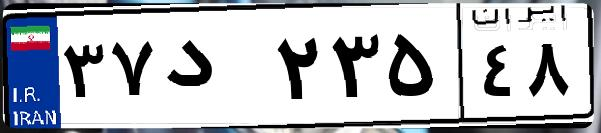2: (270, 28, 330, 110)
3: (330, 28, 385, 110), (57, 26, 110, 100)
4: (475, 38, 525, 113)
5: (385, 28, 445, 110)
7: (110, 28, 158, 98)
8: (525, 38, 570, 115)
د: (158, 20, 270, 120)
